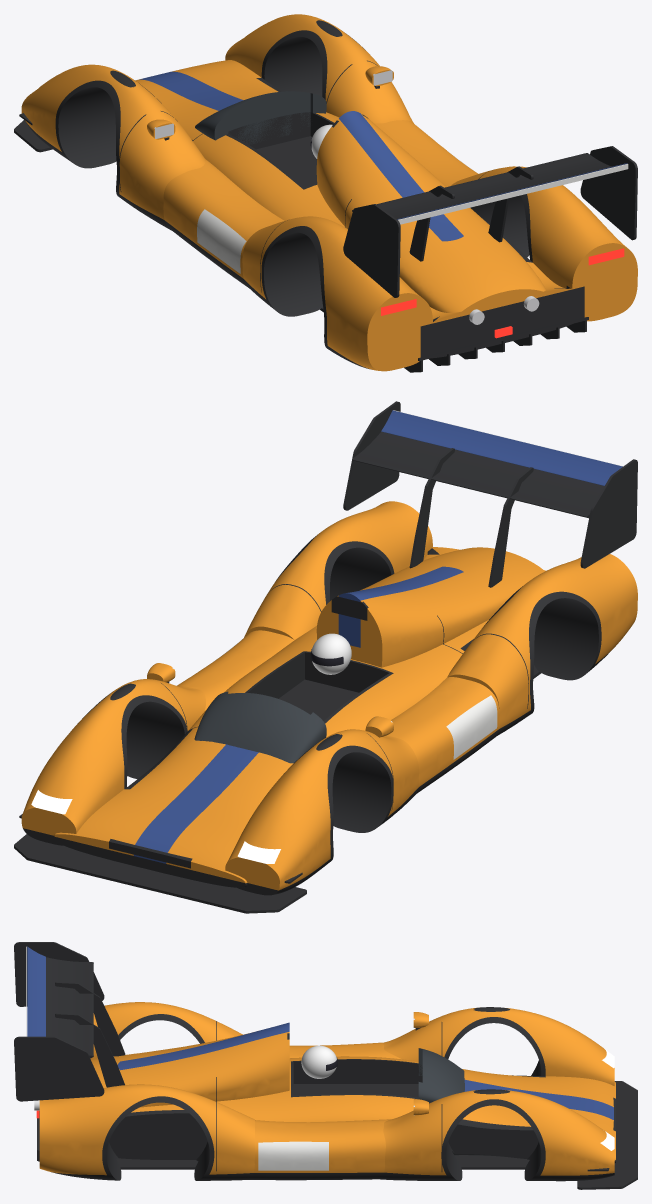
Rendered from body.glb.
The picture shows the model from 3 angles, top to bottom: view 1: azimuth 30°, elevation 25°; view 2: azimuth 150°, elevation 25°; view 3: azimuth 270°, elevation 25°; orthographic projection. The views are drawn at different scales.
Parts seen in each view (by area): view 1: Livery, Carbon, Accent, Glass, LiveryWhite, Metal, Light; view 2: Livery, Carbon, Accent, Glass, LiveryWhite, Headlight, Helmet; view 3: Livery, Carbon, Accent, LiveryWhite, Glass, Helmet.
Boxes of the visible parts, box(x1,y1,x2,y2) form: Livery: box(21, 14, 637, 371); Carbon: box(14, 20, 637, 372); Accent: box(139, 71, 627, 241); Glass: box(195, 91, 326, 144); LiveryWhite: box(197, 151, 628, 273); Metal: box(154, 70, 539, 324); Light: box(381, 248, 624, 338); Livery: box(21, 501, 637, 890); Carbon: box(14, 401, 637, 913); Accent: box(133, 410, 622, 863); Glass: box(194, 691, 326, 763); LiveryWhite: box(215, 410, 622, 759); Headlight: box(31, 790, 280, 863); Helmet: box(311, 633, 351, 674); Livery: box(39, 1002, 615, 1175); Carbon: box(14, 942, 637, 1189); Accent: box(27, 946, 613, 1119); LiveryWhite: box(26, 946, 328, 1170); Glass: box(418, 1048, 464, 1103); Helmet: box(301, 1045, 336, 1078).
Size of the model in its own units: 2.01 by 1.25 by 4.84.
